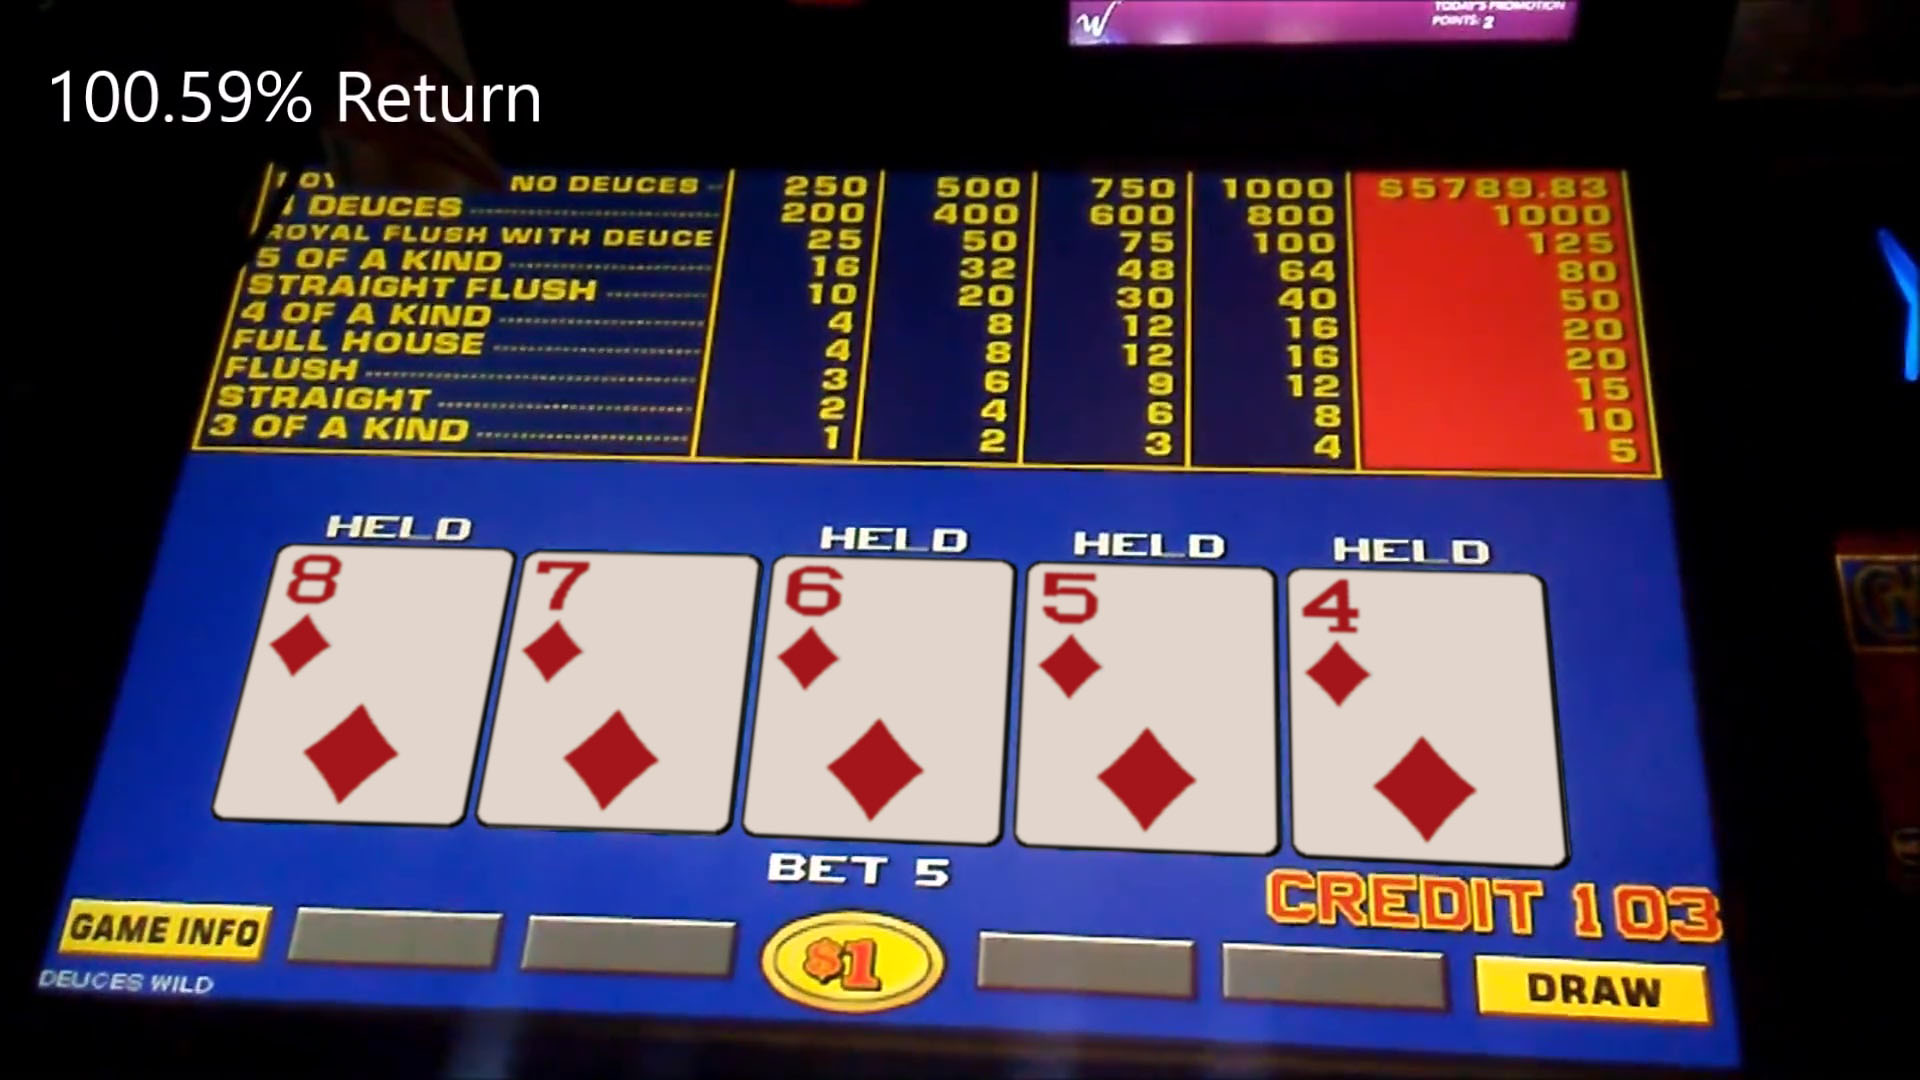D4: (1294, 575, 1540, 707)
D5: (1027, 566, 1270, 704)
D6: (771, 558, 1007, 696)
D7: (520, 553, 745, 688)
D8: (265, 549, 491, 684)
